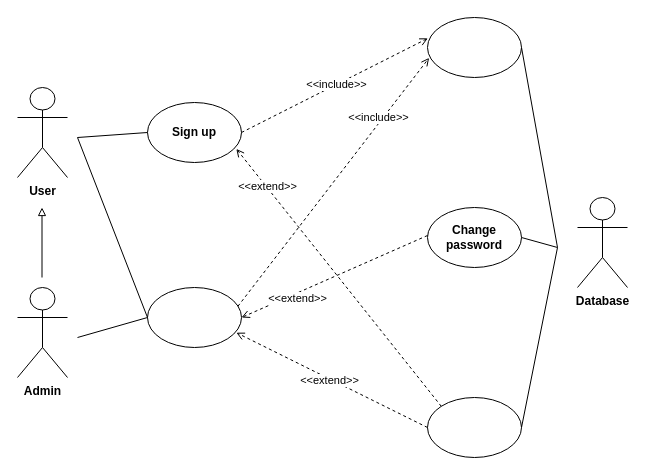
The diagram is 646 pixels wide and 475 high, and some of its shapes have lost their labels. The centre of each missing label's shape, as x and y in pixels:
"Check verification of user" belongs at (474,47).
"Display error message" belongs at (474,427).
"Log in" belongs at (194,317).
